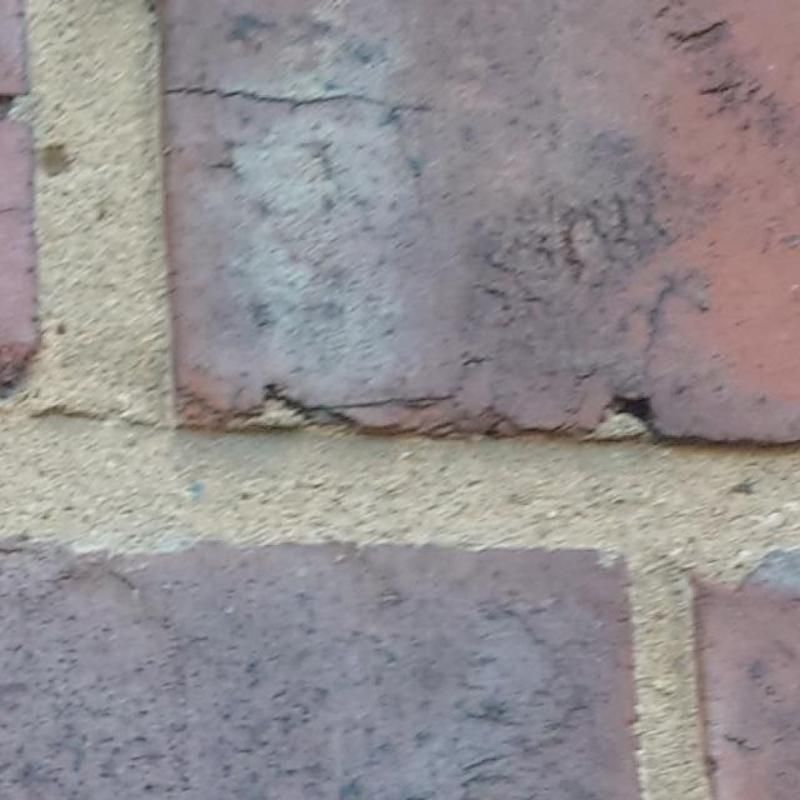pothole: (164, 87, 432, 129)
